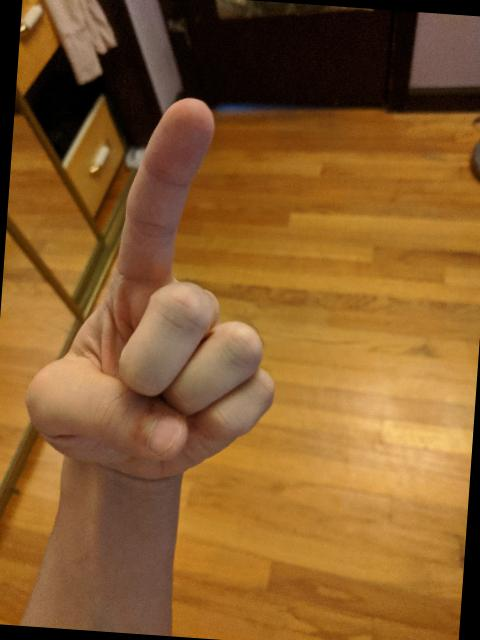D: (15, 84, 298, 498)
